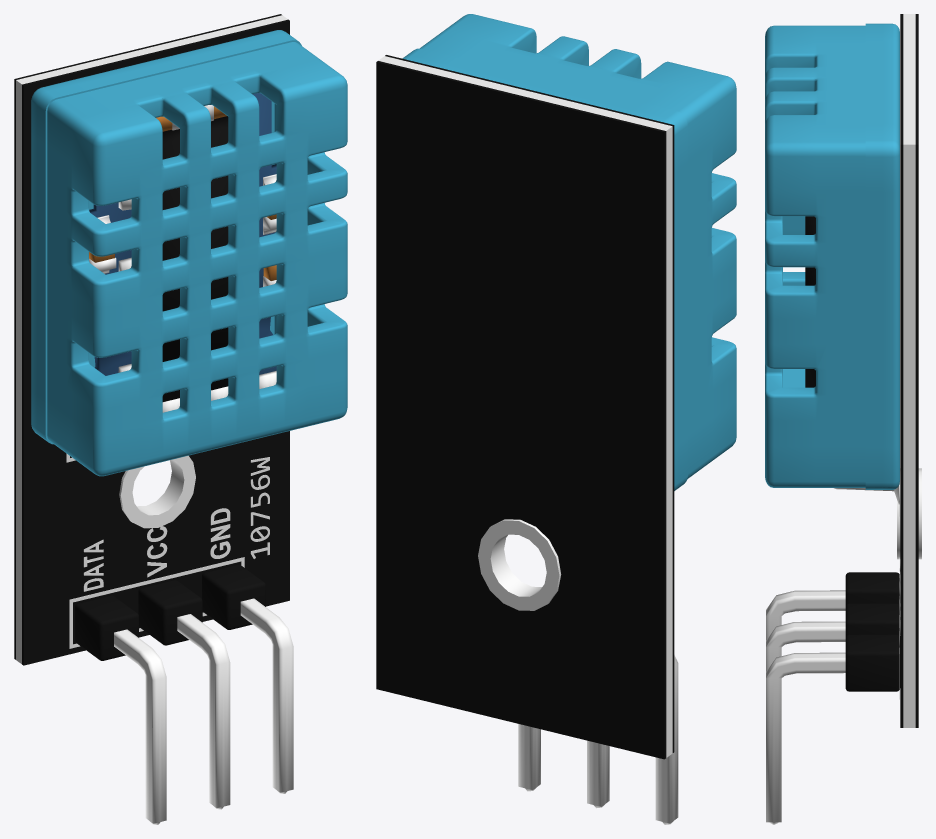
File: SensorDHT11_withBoard revisi.fbx
3 renders of one model, left to right at view 1: azimuth 30°, elevation 25°; view 2: azimuth 150°, elevation 25°; view 3: azimuth 270°, elevation 25°, orthographic. The views are drawn at different scales.
Visible parts, largest first — view 1: body.003, board, pins, Inside.002; view 2: board, body.003, pins; view 3: body.003, pins, board, Inside.002.
Part boxes in pixels (x1,y1,x2,y2): body.003: (31,30,347,476); board: (14,14,289,665); pins: (75,564,293,824); Inside.002: (89,93,276,412); board: (376,55,674,759); body.003: (402,14,736,490); pins: (518,655,678,824); body.003: (765,23,899,489); pins: (766,572,900,824); board: (894,14,921,727); Inside.002: (805,216,894,491).
Bounding box in the file's own units: 5.04 × 12.81 × 2.56.
